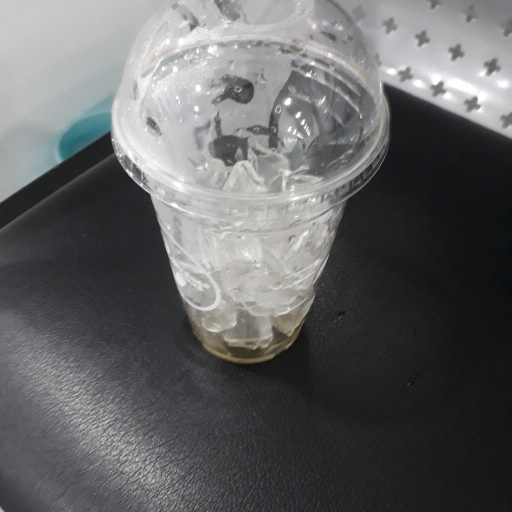Plastic_2: (110, 3, 390, 366)
